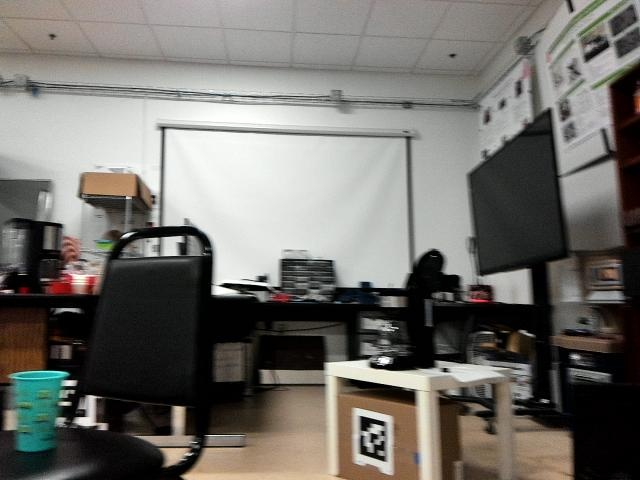coffee_cup: (9, 367, 69, 452)
